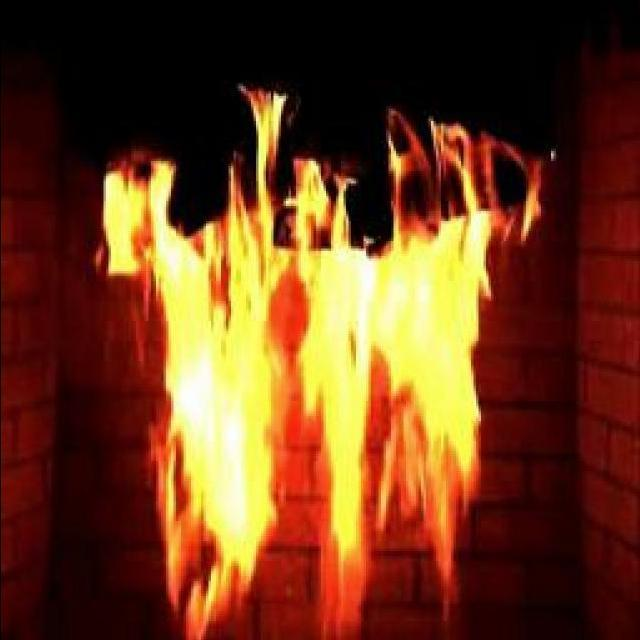Fire: (132, 133, 482, 563)
